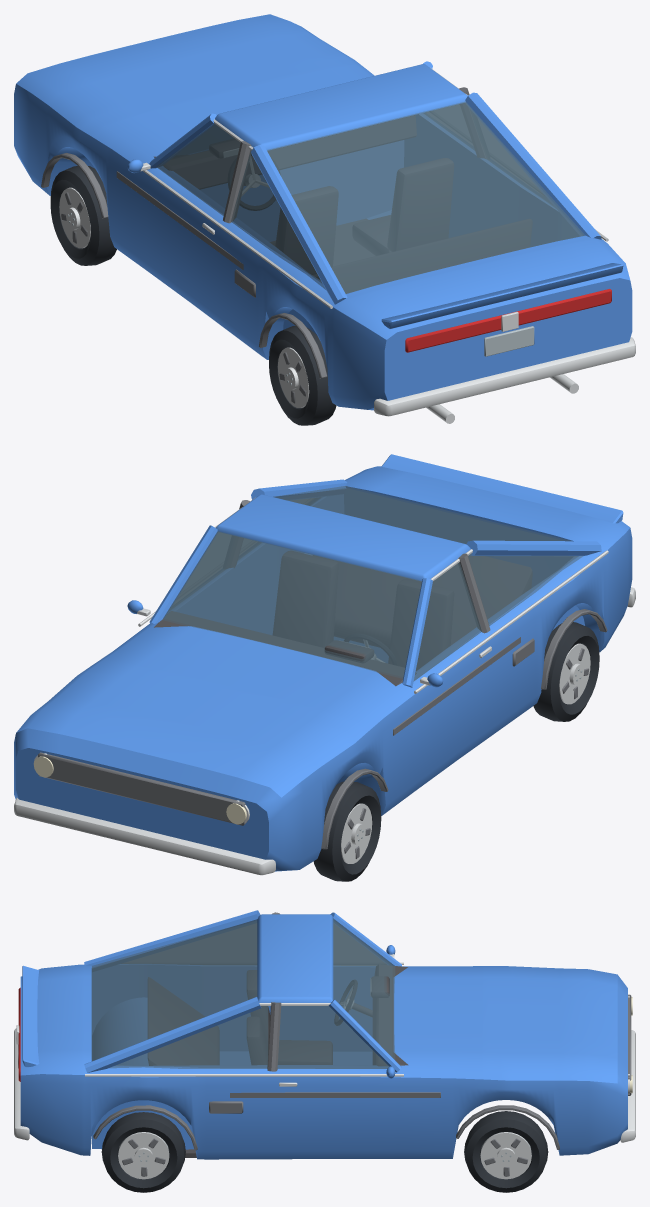
The model's file is Fastback.fbx.
3 views of the same model, one above another, from view 1: azimuth 30°, elevation 25°; view 2: azimuth 150°, elevation 25°; view 3: azimuth 270°, elevation 25° (orthographic). The views are drawn at different scales.
Parts seen in each view (by area): view 1: Body__paint, Body__glass, Body__interior, Body__chrome, Body__engine, WheelRL__rubber, WheelFL__rubber, Body__tail, WheelFL__chrome, WheelRL__chrome, Body__metal; view 2: Body__paint, Body__glass, Body__interior, Body__engine, Body__chrome, WheelFL__rubber, WheelRL__rubber, WheelRL__chrome, WheelFL__chrome, Body__lamp; view 3: Body__paint, Body__glass, Body__interior, Body__engine, WheelFR__rubber, WheelRR__rubber, Body__chrome, WheelFR__chrome, WheelRR__chrome.
Part boxes in pixels (box(x1,y1,x2,y2)): Body__paint: box(14, 14, 632, 410); Body__glass: box(156, 101, 585, 293); Body__interior: box(154, 115, 532, 293); Body__chrome: box(140, 68, 635, 423); Body__engine: box(41, 87, 486, 378); WheelRL__rubber: box(269, 326, 336, 425); WheelFL__rubber: box(50, 166, 116, 265); Body__tail: box(405, 289, 611, 352); WheelFL__chrome: box(59, 187, 90, 248); WheelRL__chrome: box(277, 347, 309, 407); Body__metal: box(223, 148, 534, 356); Body__paint: box(14, 454, 632, 871); Body__glass: box(162, 486, 583, 681); Body__interior: box(154, 551, 532, 686); Body__engine: box(38, 500, 607, 849); Body__chrome: box(14, 497, 635, 875); WheelFL__rubber: box(313, 781, 381, 881); WheelRL__rubber: box(533, 622, 599, 721); WheelRL__chrome: box(559, 643, 590, 704); WheelFL__chrome: box(341, 803, 372, 863); Body__lamp: box(33, 756, 246, 824); Body__paint: box(20, 910, 627, 1159); Body__glass: box(91, 919, 395, 1068); Body__interior: box(148, 964, 408, 1157); Body__engine: box(93, 912, 631, 1150); WheelFR__rubber: box(464, 1111, 548, 1192); WheelRR__rubber: box(101, 1112, 185, 1192); Body__chrome: box(14, 954, 635, 1142); WheelFR__chrome: box(480, 1132, 531, 1179); WheelRR__chrome: box(118, 1132, 169, 1179).
Size of the model in its own units: 2.28 by 1.54 by 4.72.
